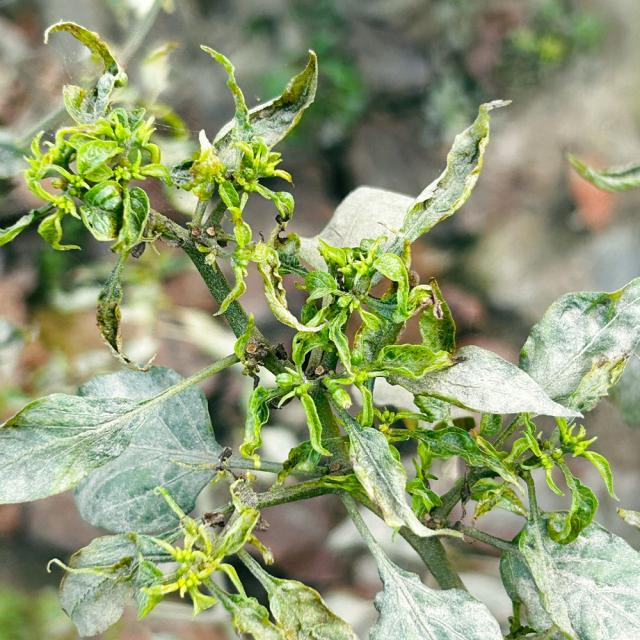Chilli_Leaf_Curl: (1, 19, 638, 638), (0, 363, 228, 539), (516, 275, 639, 416), (383, 343, 585, 421)
